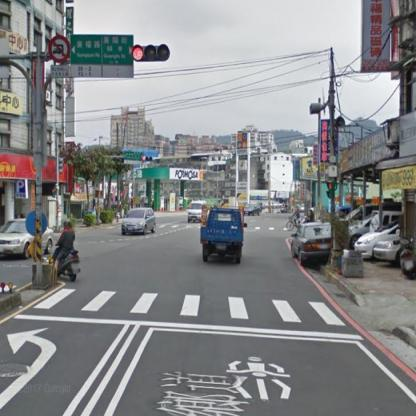Red Light: (131, 44, 172, 63)
